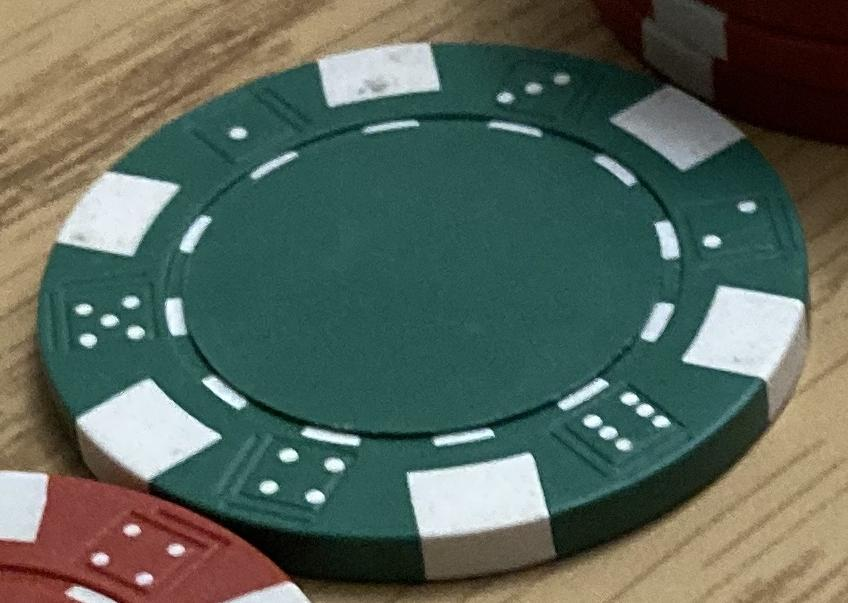Chip: (1, 1, 848, 603)
